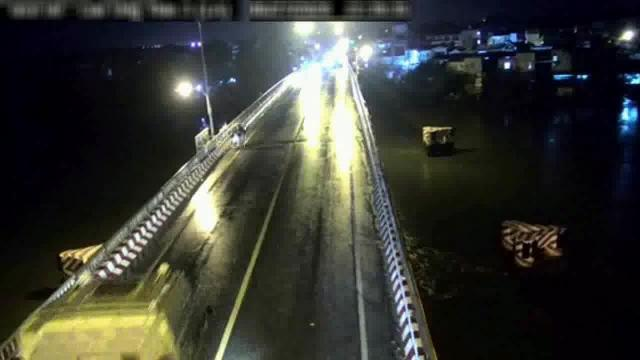Bike: (230, 124, 246, 148)
